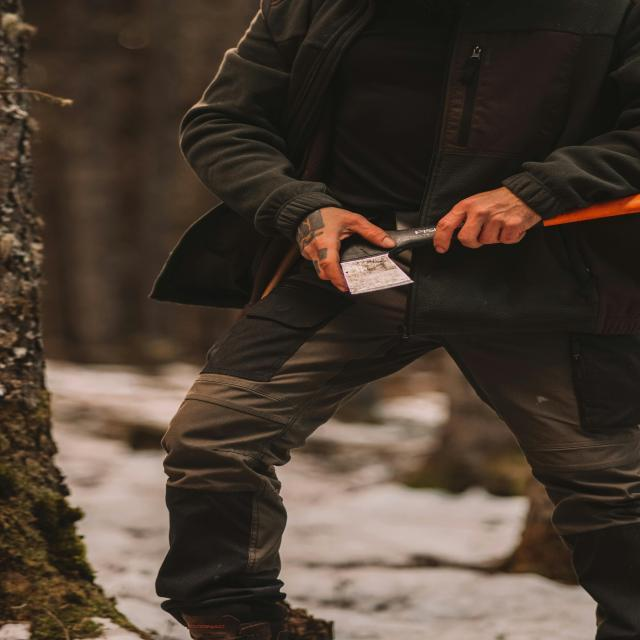Axe: (339, 230, 435, 297)
